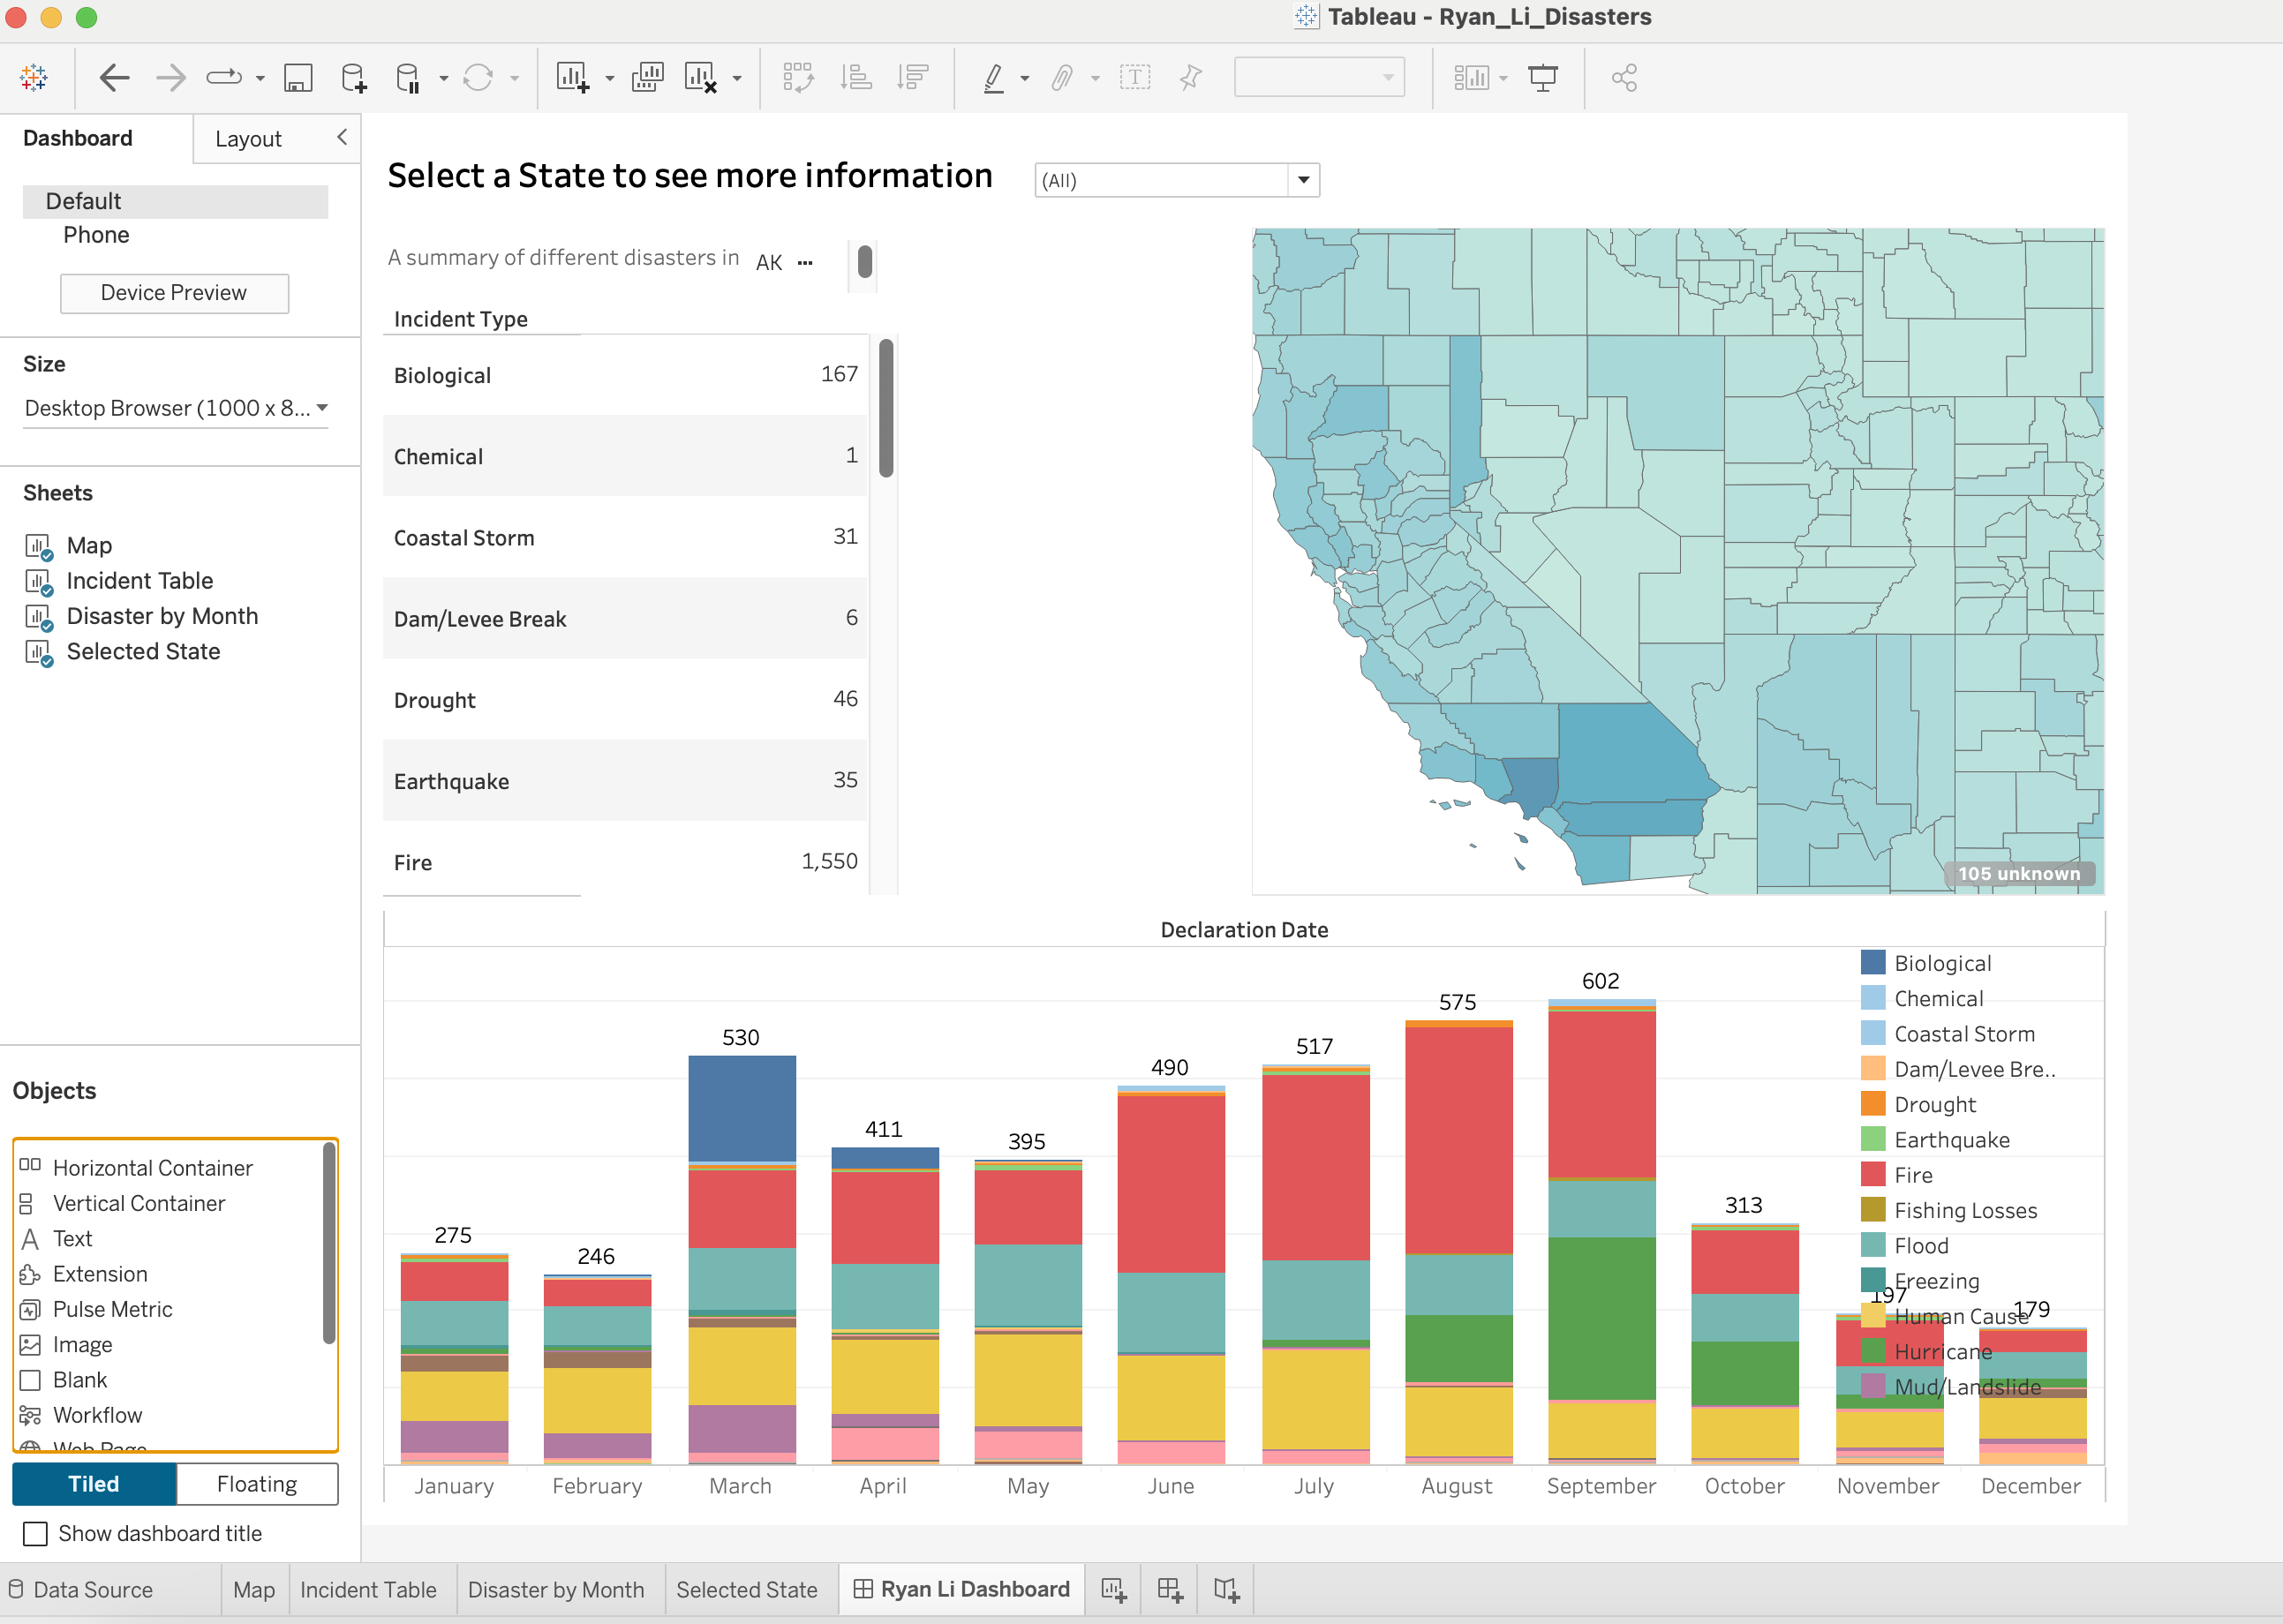

This screenshot's page, from the dashboard's own definition file:
{"tool":"tableau","page":{"name":"Ryan Li Dashboard","canvas":[1000,800],"ordinal":0},"visuals":[{"type":"blank","box":[2,0,204,424]},{"type":"text","box":[8,8,984,53]},{"type":"filter","title":"Map","param":"[federated.0orq31t0r9ej7p1eixnmw1dcx4rg].[none:state:nk]","box":[378,25,168,52]},{"type":"text","box":[8,61,492,40.3]},{"type":"worksheet","title":"Map","mark":"Automatic","box":[500,61,492,387]},{"type":"worksheet","title":"Selected State","mark":"Automatic","box":[215,72,134,30]},{"type":"worksheet","title":"Incident Table","mark":"Automatic","rows":["incidentType"],"box":[8,101.3,492,346.7]},{"type":"worksheet","title":"Disaster by Month","mark":"Bar","rows":["disasterNumber","disasterNumber"],"cols":["declarationDate"],"box":[8,448,984,344]},{"type":"blank","box":[838,458,165,239]},{"type":"legend","title":"Disaster by Month","param":"[federated.0orq31t0r9ej7p1eixnmw1dcx4rg].[none:incidentType:nk]","box":[846,471,140,261]}]}

Visuals, with their boxes on the page's 1000x800 design canvas (x1, y1, x2, y2). These are canvas units, not pixel positions in the 2283x1624 screenshot, which may show the page scaled, cropped or inside an application window:
blank: bbox(2, 0, 206, 424)
text: bbox(8, 8, 992, 61)
"Map" filter: bbox(378, 25, 546, 77)
text: bbox(8, 61, 500, 101)
"Map" worksheet: bbox(500, 61, 992, 448)
"Selected State" worksheet: bbox(215, 72, 349, 102)
"Incident Table" worksheet: bbox(8, 101, 500, 448)
"Disaster by Month" worksheet (Bar marks): bbox(8, 448, 992, 792)
blank: bbox(838, 458, 1003, 697)
"Disaster by Month" legend: bbox(846, 471, 986, 732)
